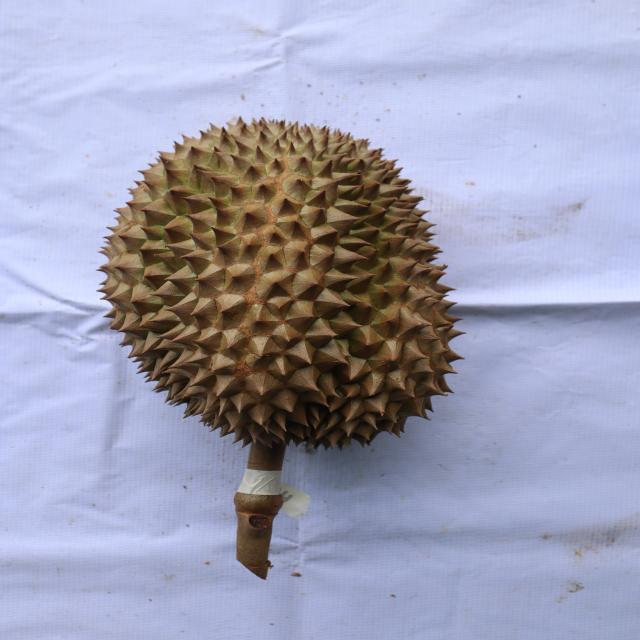mature: (94, 118, 468, 450)
